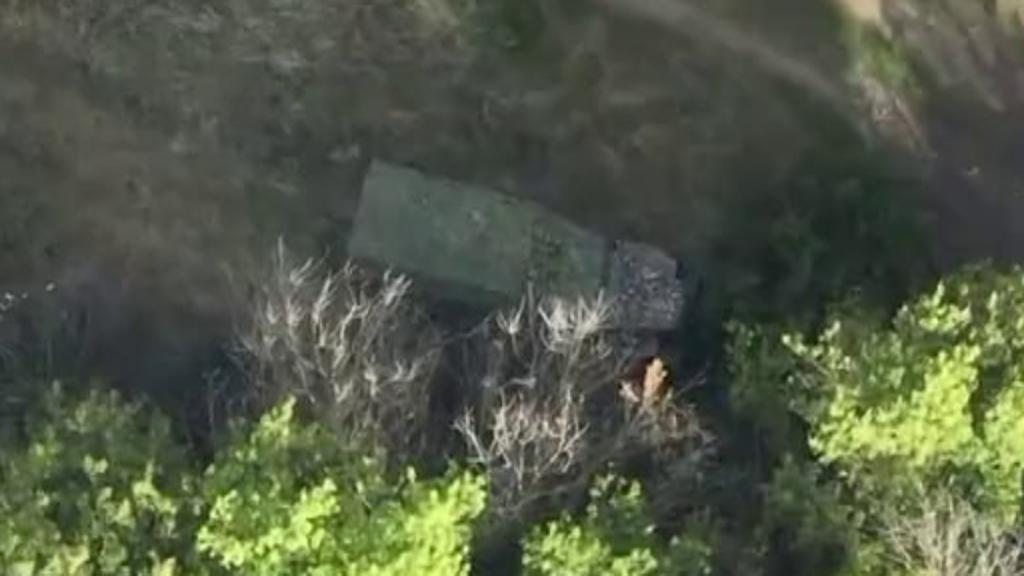TRUCK: (336, 152, 688, 362)
